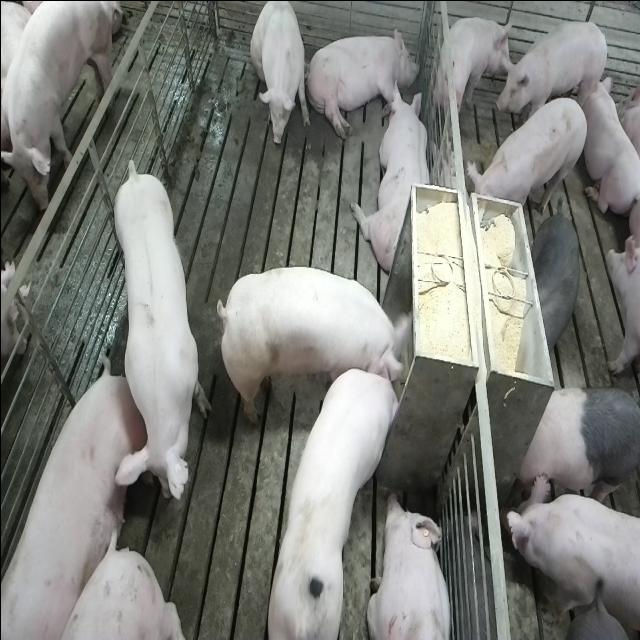Feeding: (264, 362, 404, 636), (212, 264, 406, 422)
Lateral_lying: (303, 23, 418, 140)
Sitting: (250, 0, 308, 146)
Standing: (106, 154, 206, 511), (0, 0, 116, 217), (502, 471, 638, 639), (468, 92, 590, 222), (514, 382, 638, 509), (495, 21, 609, 132), (434, 14, 516, 132), (530, 212, 582, 354), (605, 241, 640, 379)
Sternal_lying: (352, 82, 432, 274), (368, 491, 454, 640), (579, 70, 637, 220)
